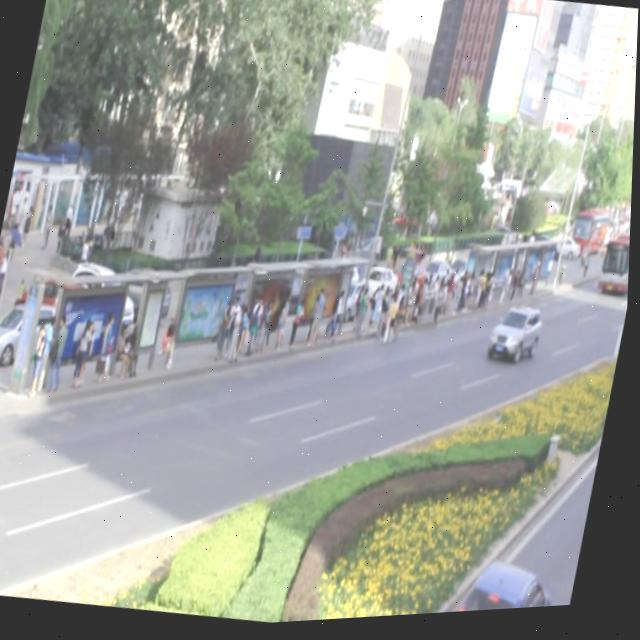car: (488, 304, 546, 372)
